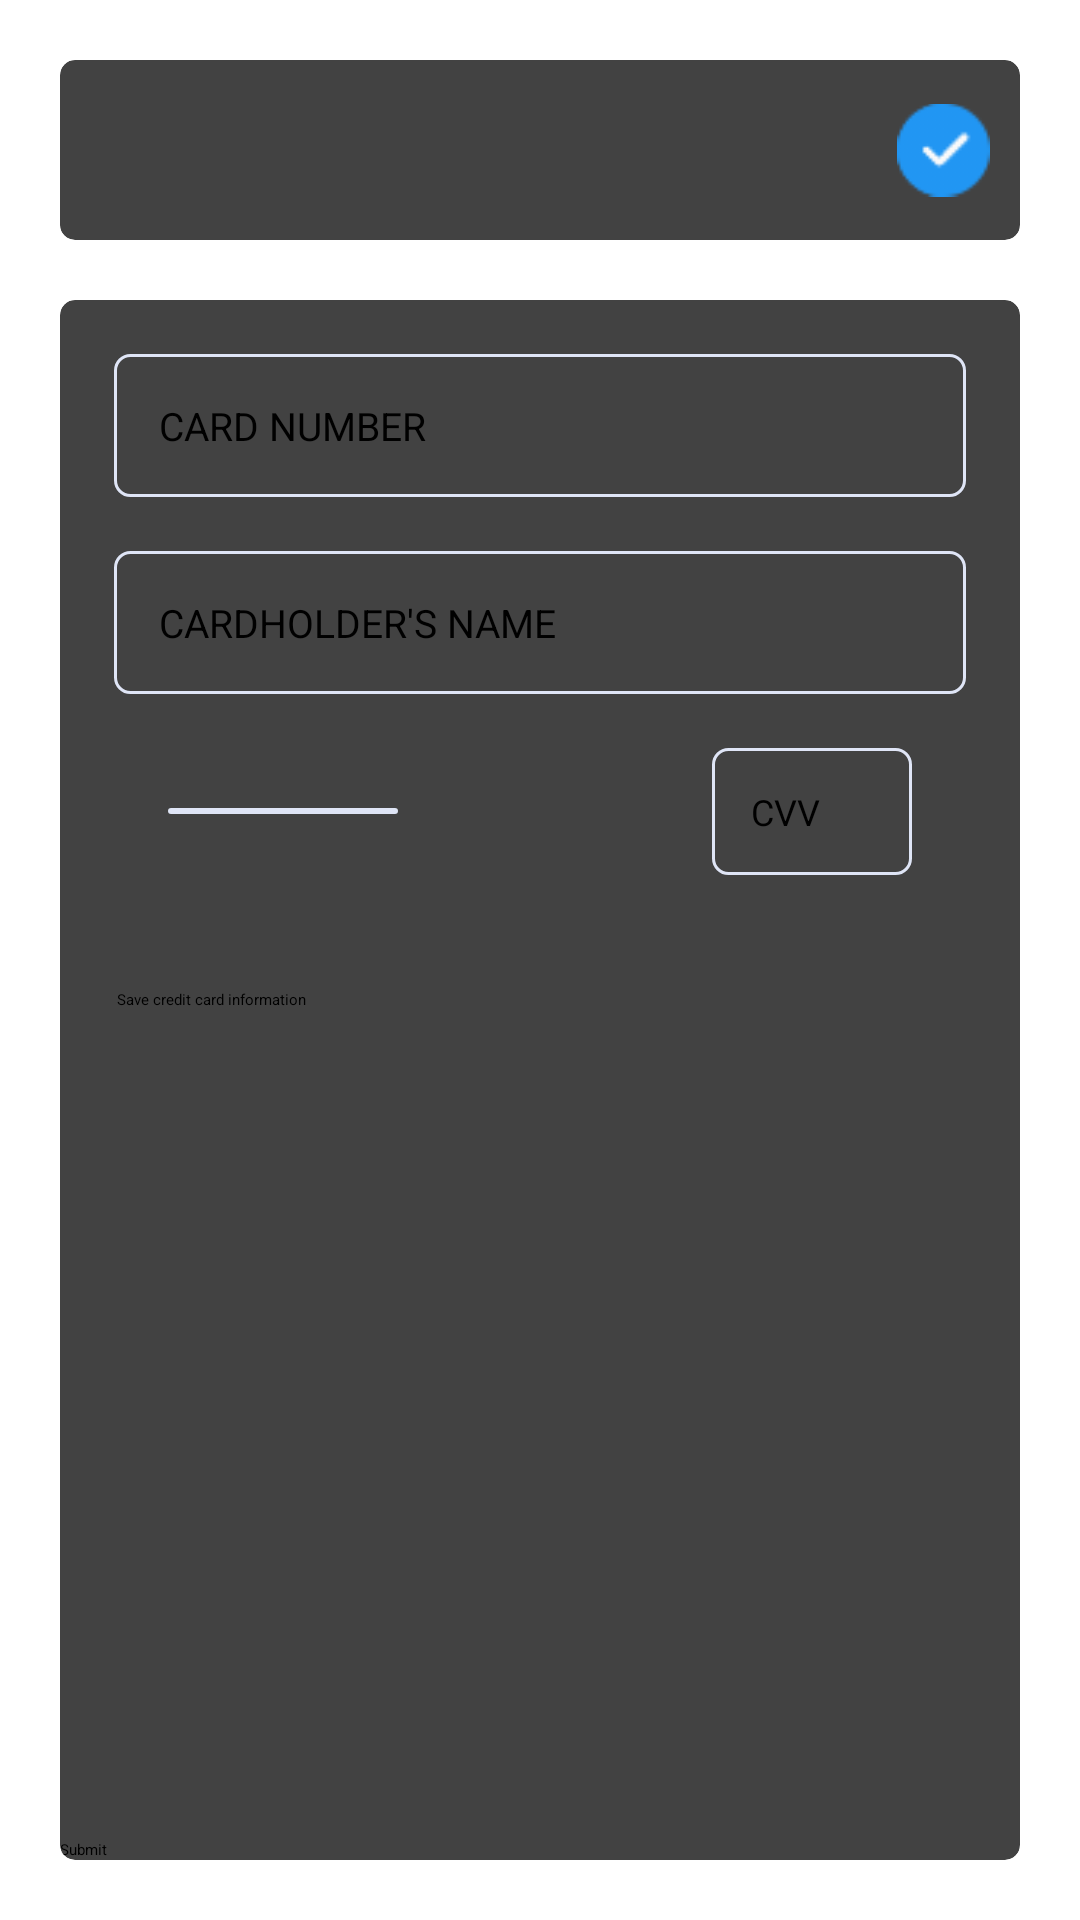

Where to tap for icons on this 1080 x 1920 app screen, as (x,y):
cocher: (943,150)
